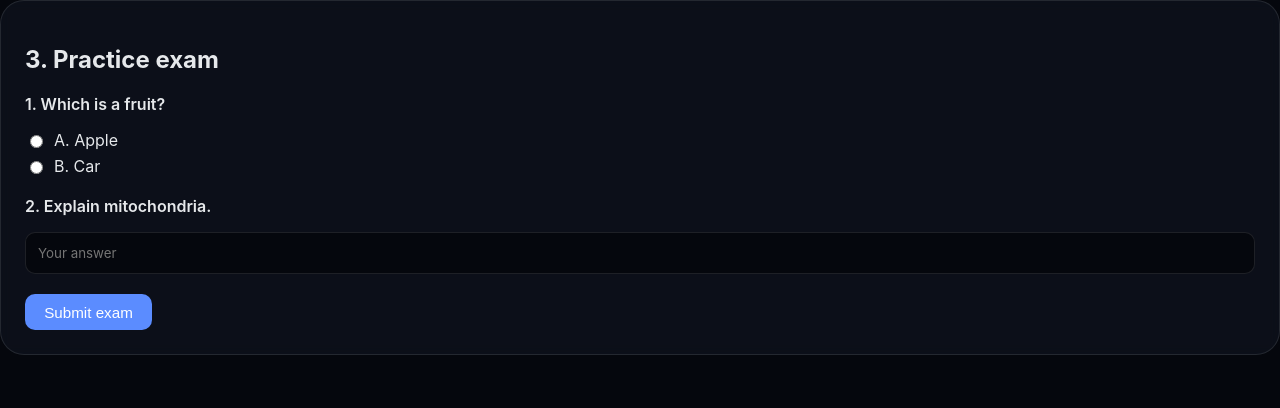
Test: ExamPanel › shows an error when grading fails and keeps the exam
This screenshot has width=1280, height=408.
Click the button "Submit exam": (88, 312) [25,294,152,330]
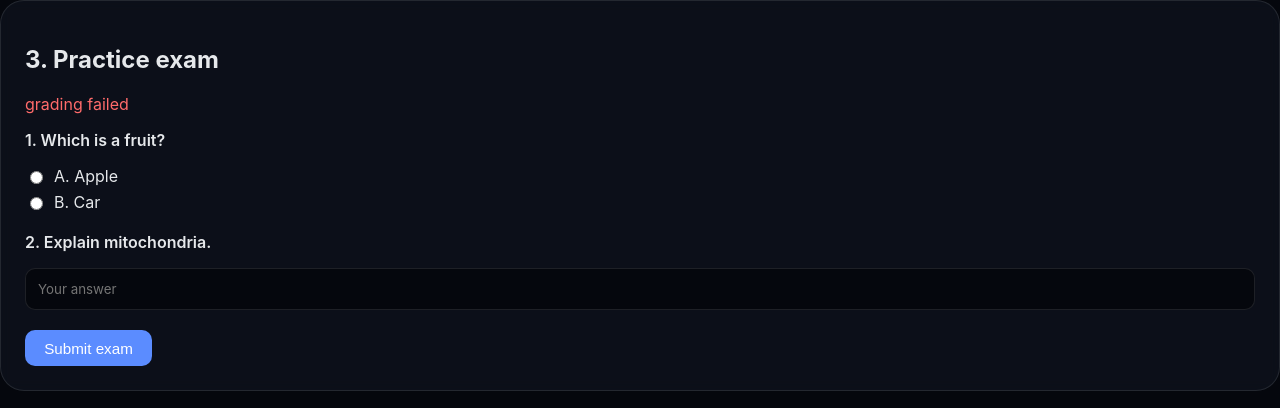
Expected: the button "Submit exam" is shown, [25,330,152,366]
Expected: the text "grading failed" is shown, [25,94,129,114]
